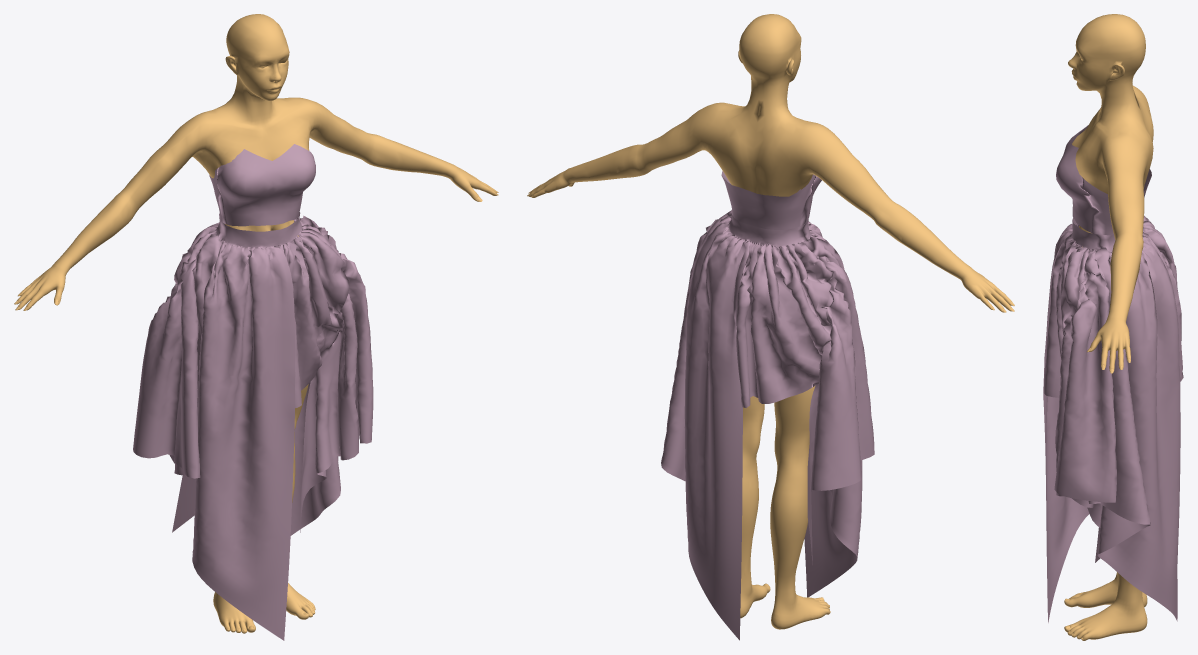
Rendered from dress8.glb.
3 views of the same model, side by side, from view 1: azimuth 30°, elevation 25°; view 2: azimuth 150°, elevation 25°; view 3: azimuth 270°, elevation 25° (orthographic).
Parts seen in each view (by area): view 1: Project 1, Body; view 2: Project 1, Body; view 3: Project 1, Body.
Part boxes in pixels (left/top/right/bottom): Project 1: left=133, top=144, right=373, bottom=640; Body: left=16, top=14, right=498, bottom=633; Project 1: left=661, top=171, right=874, bottom=640; Body: left=528, top=14, right=1011, bottom=629; Project 1: left=1043, top=125, right=1183, bottom=622; Body: left=1064, top=14, right=1153, bottom=640.
Bounding box in the file's own units: 1.58 × 1.87 × 0.3896.
